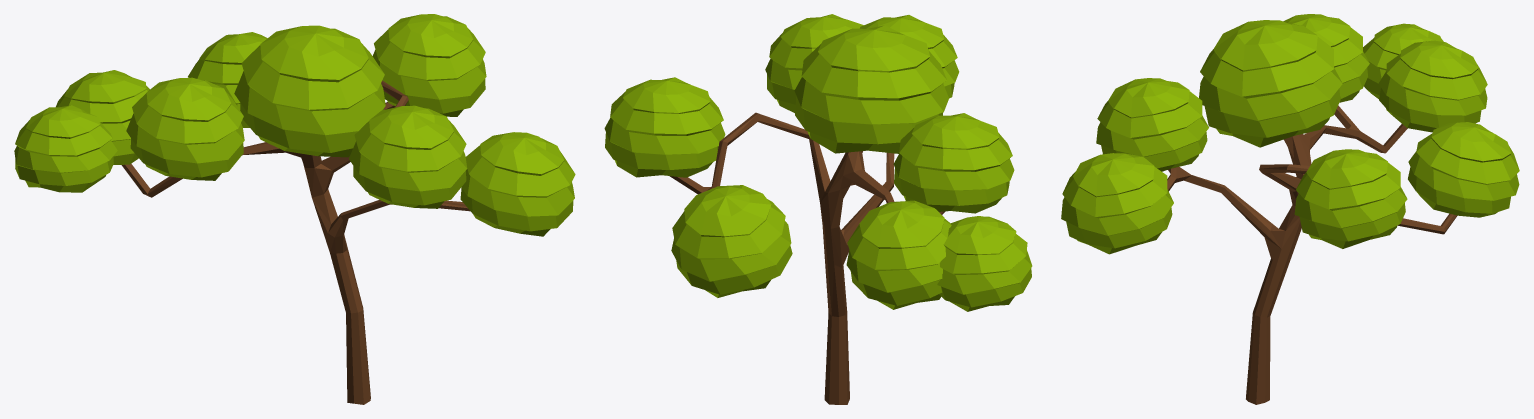
File: Tree001.fbx
The picture shows the model from 3 angles, left to right: view 1: azimuth 30°, elevation 25°; view 2: azimuth 150°, elevation 25°; view 3: azimuth 270°, elevation 25°; orthographic projection. The views are drawn at different scales.
Visible parts, largest first — view 1: Sphere.001, Sphere, Cube; view 2: Sphere.001, Sphere, Cube; view 3: Sphere.001, Sphere, Cube.
Part boxes in pixels (box(x1,y1,x2,y2)): Sphere.001: box(14, 14, 575, 236); Sphere: box(234, 25, 385, 157); Cube: box(121, 80, 469, 404); Sphere.001: box(604, 14, 1032, 311); Sphere: box(794, 25, 948, 153); Cube: box(669, 112, 945, 404); Sphere.001: box(1061, 14, 1519, 254); Sphere: box(1199, 20, 1342, 147); Cube: box(1167, 105, 1457, 404).
Size of the model in its own units: 661 by 549 by 641.
